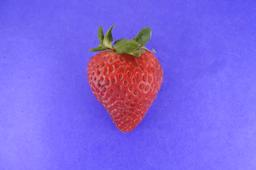red strawberry: (87, 28, 164, 135)
